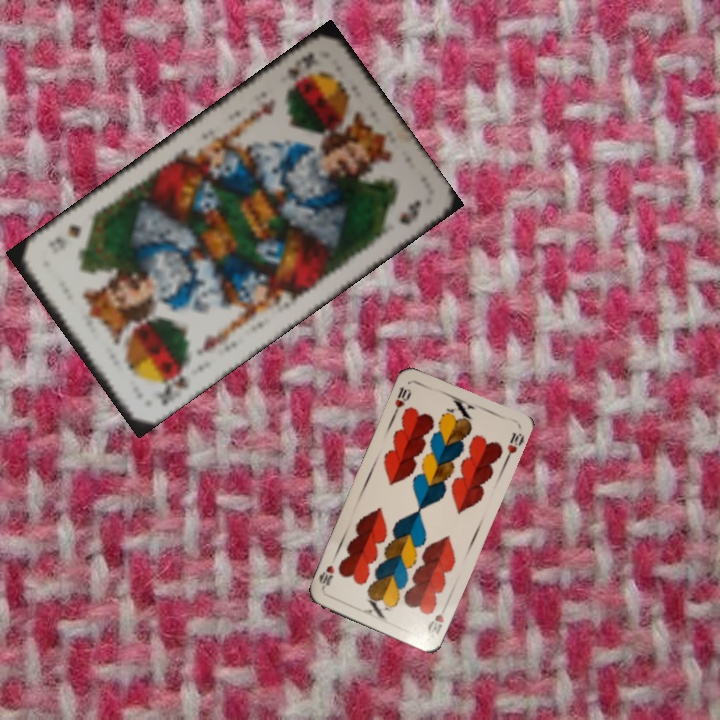H10: (389, 383, 414, 418), (424, 610, 447, 637)
SK: (154, 361, 191, 409), (283, 49, 320, 81)
